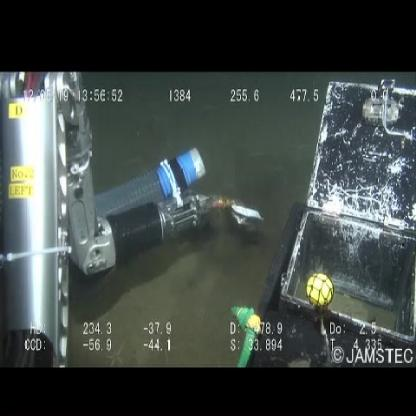Rov: (1, 73, 225, 366), (260, 76, 416, 365)
Rác: (213, 191, 266, 237)
